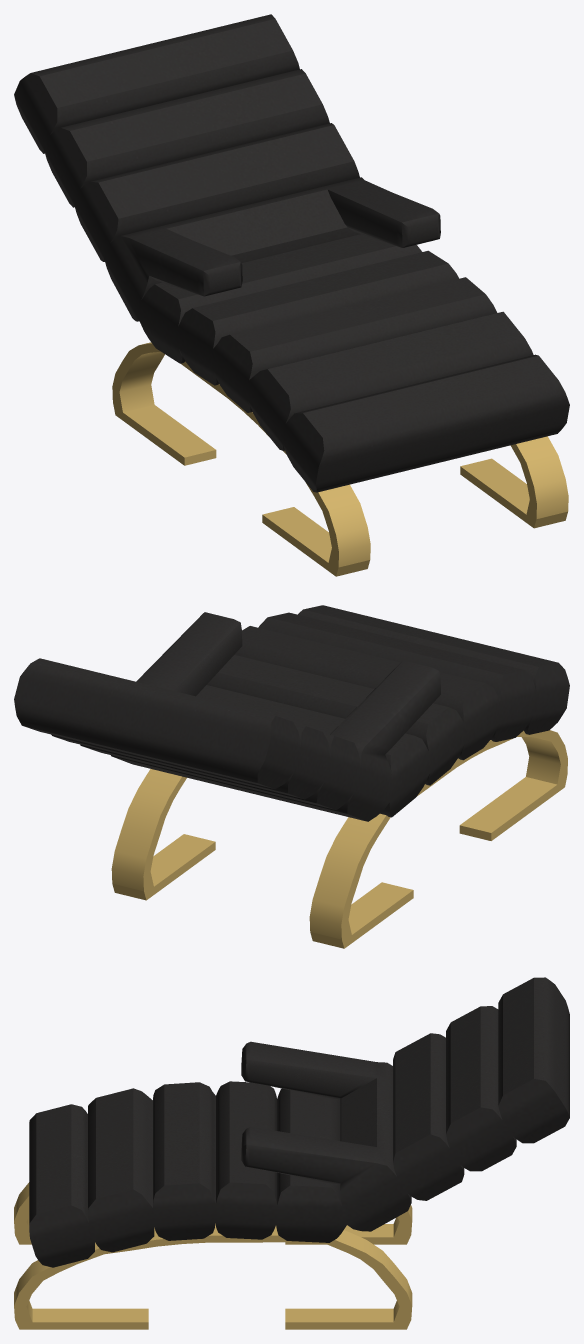
Rendered from PatientChair.fbx.
The picture shows the model from 3 angles, top to bottom: view 1: azimuth 30°, elevation 25°; view 2: azimuth 150°, elevation 25°; view 3: azimuth 270°, elevation 25°; orthographic projection. The views are drawn at different scales.
Parts seen in each view (by area): view 1: pCube50, pCube53, pCube54; view 2: pCube50, pCube53, pCube54; view 3: pCube50, pCube54, pCube53.
Part boxes in pixels (<box>): pCube50: <box>14,14,569,492</box>; pCube53: <box>112,342,370,576</box>; pCube54: <box>460,436,568,528</box>; pCube50: <box>14,605,569,821</box>; pCube53: <box>309,730,567,948</box>; pCube54: <box>111,769,215,900</box>; pCube50: <box>29,977,569,1267</box>; pCube54: <box>14,1223,412,1329</box>; pCube53: <box>14,1182,412,1244</box>.
Bounding box in the file's own units: 1 × 1.09 × 2.18.
